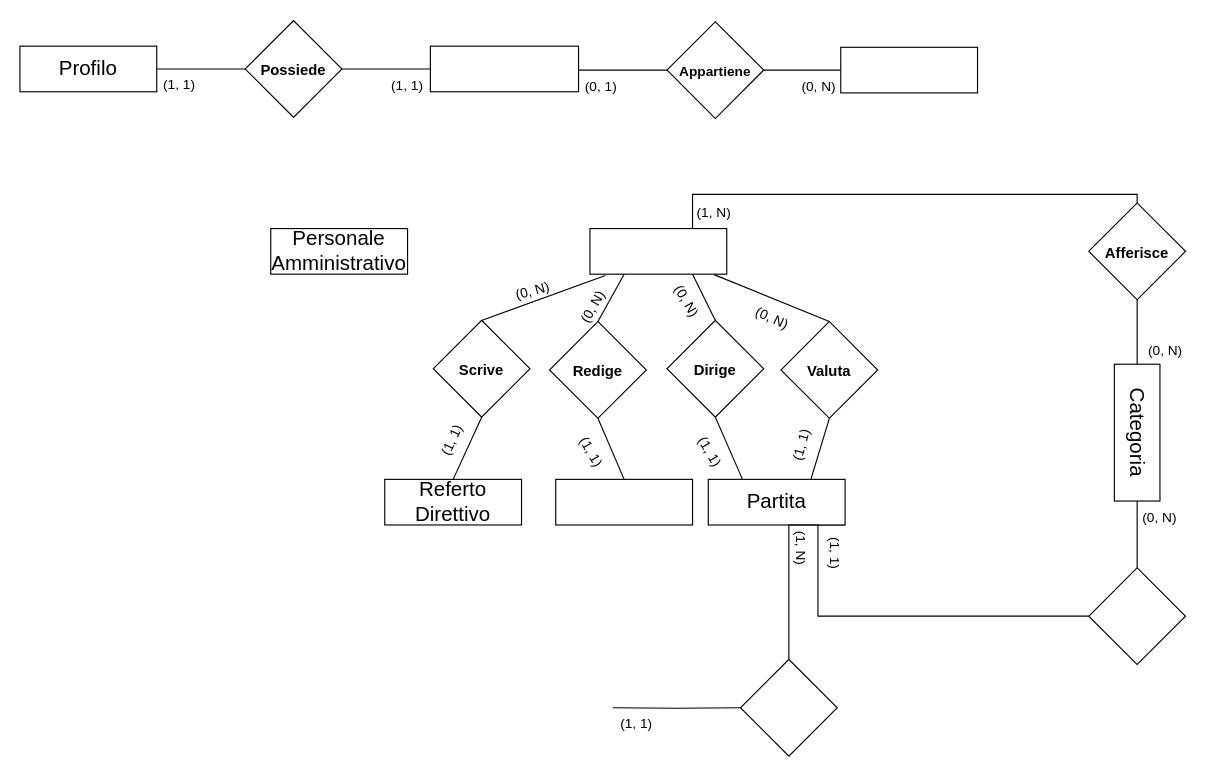
This 1208x776 diagram has some shape labels left out. The centre of each missing label's shape, as x and y in pixels:
Inerisce: the point at 1136,615
Personale: the point at 504,68
Personale Tecnico: the point at 658,250
Referto Valutativo: the point at 624,501
Riassume: the point at 788,707
Sede: the point at 909,69
